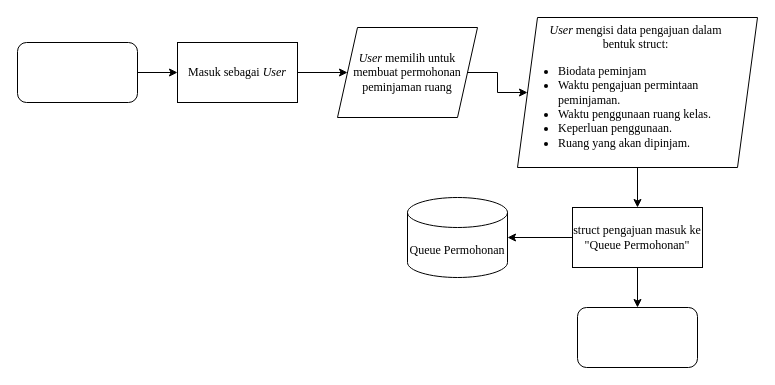
Some shapes in this 775 by 385 pixel diagram are drawn without their labels. The centre of each missing label's shape, as x and y in pixels:
"Mulai" belongs at (77,72).
"Selesai" belongs at (637,337).
